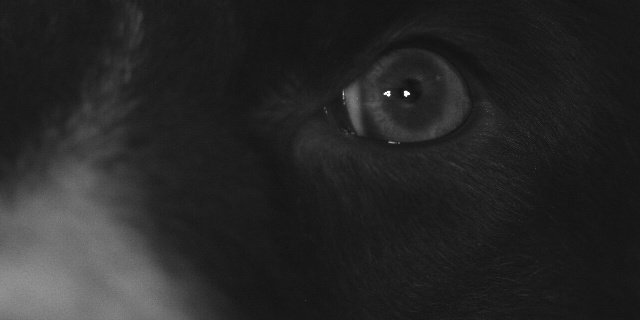iris: (320, 47, 473, 141)
